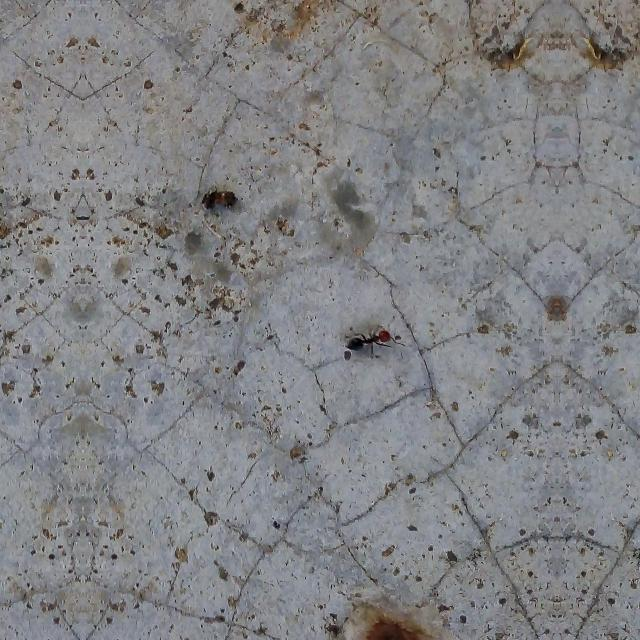Crematogaster: (347, 323, 397, 365)
